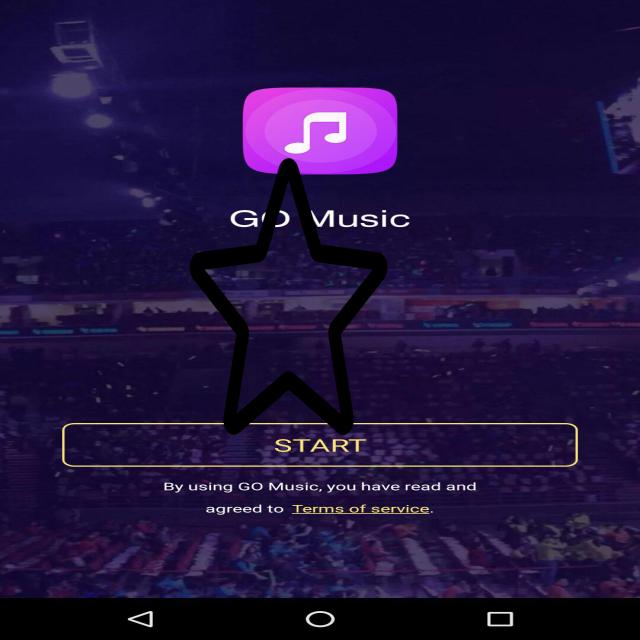forced continuity: (190, 152, 388, 441)
